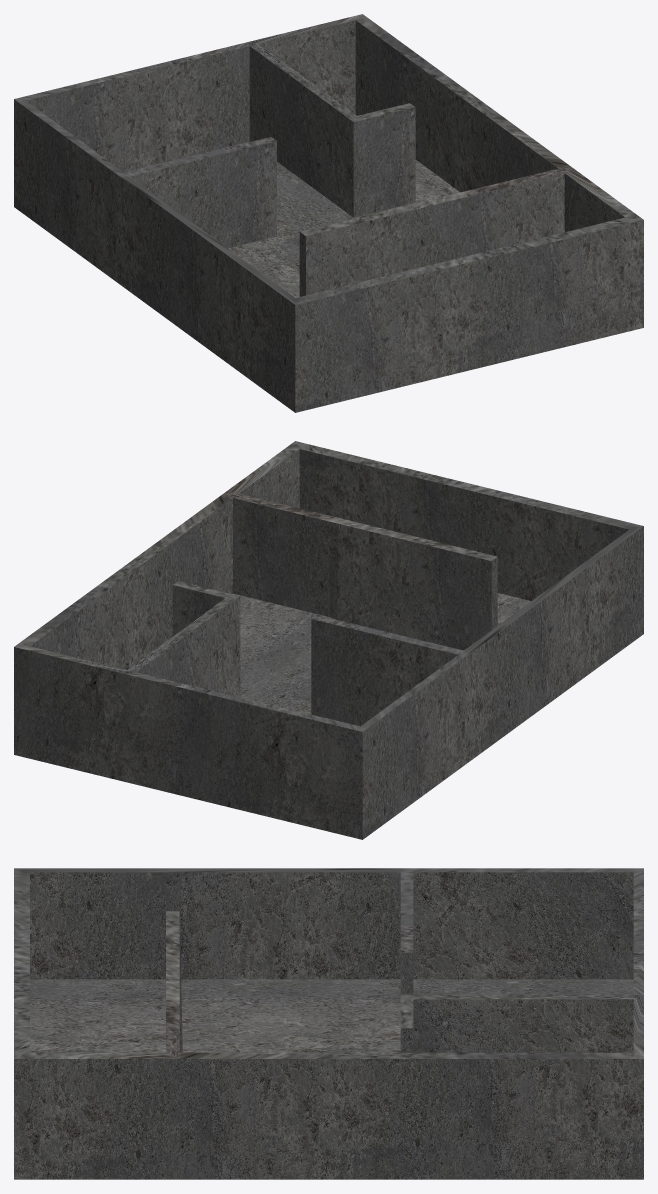
The model's file is Top Room.fbx.
3 renders of one model, top to bottom at view 1: azimuth 30°, elevation 25°; view 2: azimuth 150°, elevation 25°; view 3: azimuth 270°, elevation 25°, orthographic. The views are drawn at different scales.
Visible parts, largest first — view 1: pCube1; view 2: pCube1; view 3: pCube1.
Boxes of the visible parts, box(x1,y1,x2,y2) form: pCube1: box(14, 14, 643, 412); pCube1: box(14, 441, 643, 839); pCube1: box(14, 868, 643, 1179).
Size of the model in its own units: 1342 by 397 by 1875.
Materials: 1 (1 with a texture image).
